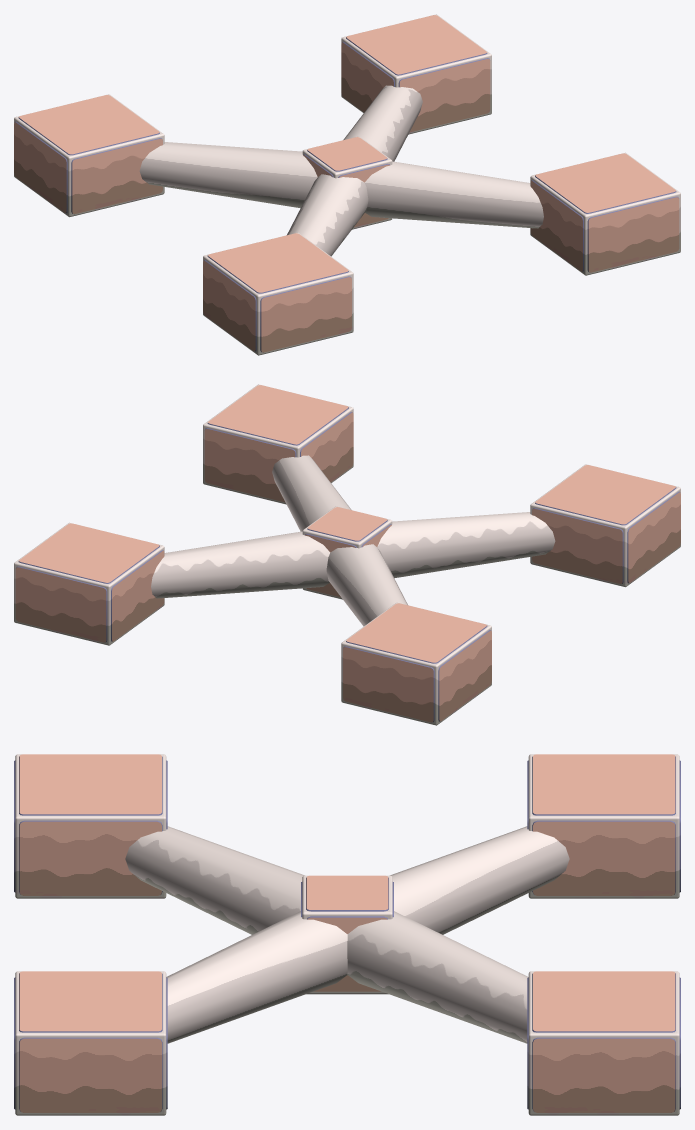
Rendered from R4C_ROD_CROSS.glb.
3 renders of one model, top to bottom at view 1: azimuth 30°, elevation 25°; view 2: azimuth 150°, elevation 25°; view 3: azimuth 270°, elevation 25°, orthographic. The views are drawn at different scales.
Parts seen in each view (by area): view 1: R4C_ROD_CROSS; view 2: R4C_ROD_CROSS; view 3: R4C_ROD_CROSS.
Part boxes in pixels (x1,y1,x2,y2): R4C_ROD_CROSS: [14, 14, 680, 355]; R4C_ROD_CROSS: [14, 384, 680, 725]; R4C_ROD_CROSS: [14, 754, 680, 1115].
Size of the model in its own units: 1.62 by 0.226 by 1.62.
Materials: 3 (3 with a texture image).
